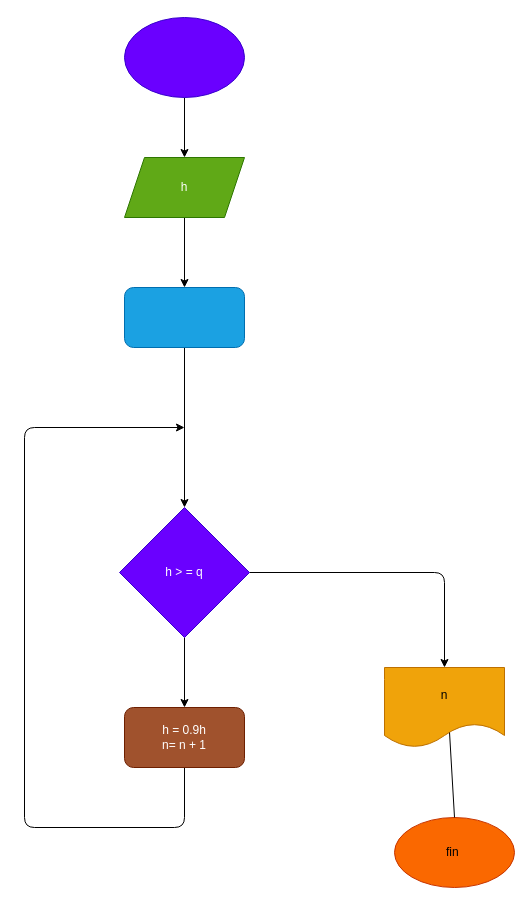
Some shapes in this 532 by 905 pixel diagram are drawn without their labels. Each missing label, with the box of its shape:
inicio: (124, 16, 244, 98)
q = h/5 n = 0: (124, 286, 244, 348)
